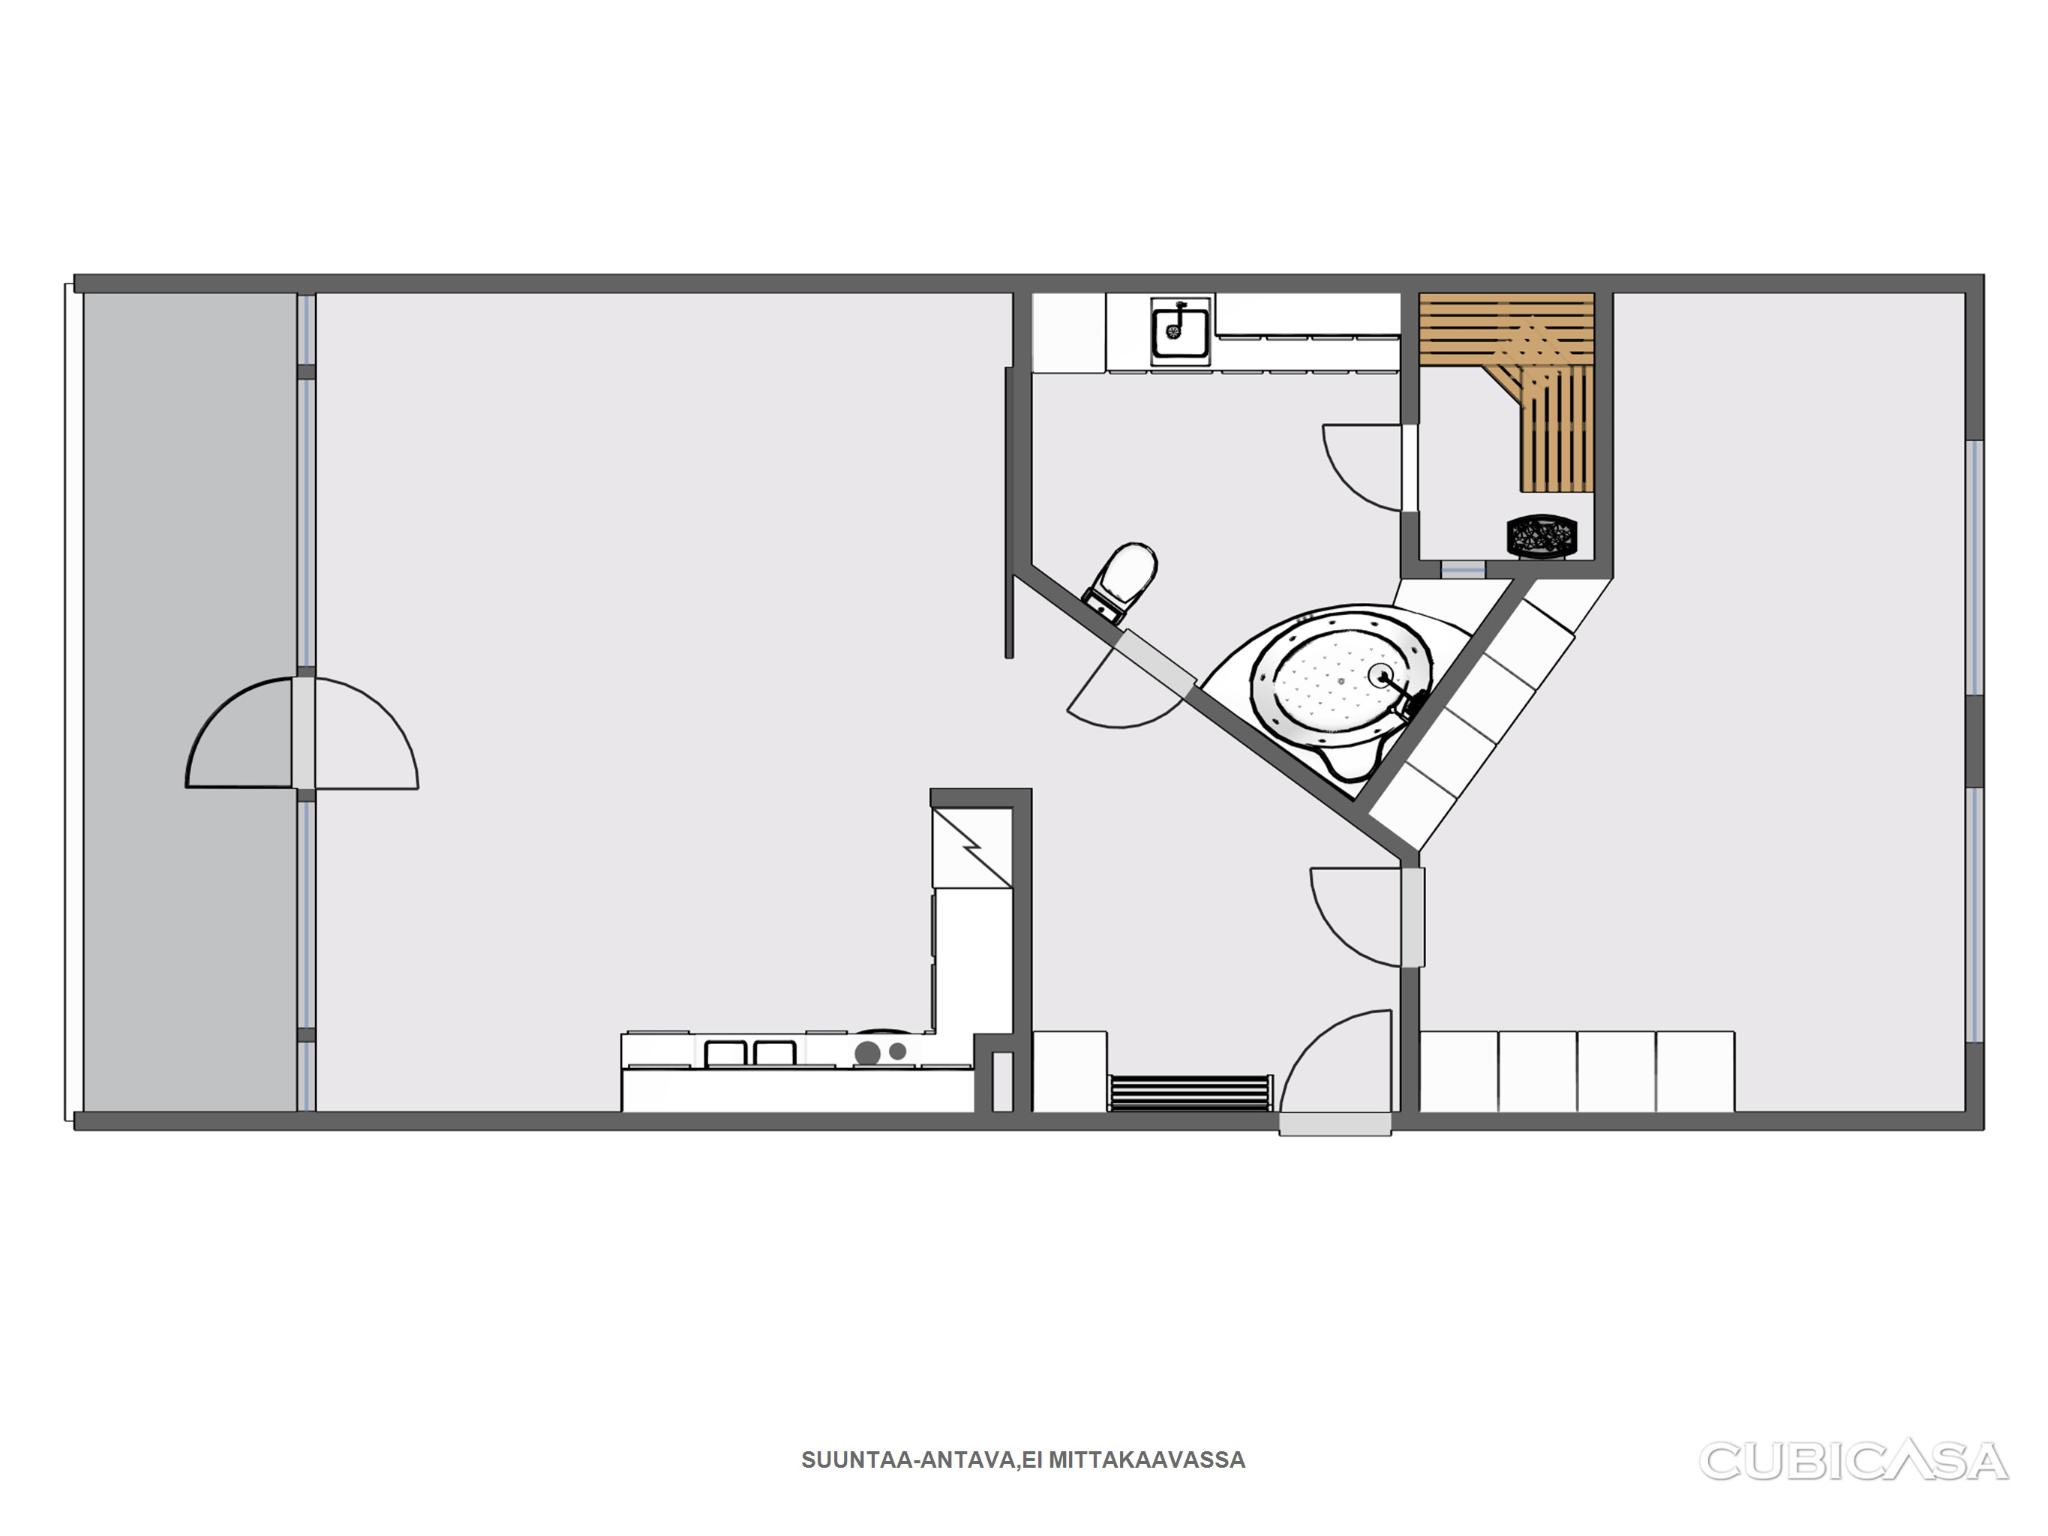bathroom: (1030, 289, 1492, 783)
door: (1268, 1005, 1405, 1147), (176, 671, 314, 799), (287, 676, 429, 799), (1063, 626, 1195, 742), (1301, 857, 1432, 970), (1314, 415, 1426, 516)
perimeter: (285, 274, 1988, 1133)
window: (1958, 768, 1995, 1065), (289, 363, 323, 678), (1956, 423, 1992, 716), (285, 787, 326, 1037), (287, 281, 323, 376), (292, 1031, 321, 1121), (1432, 552, 1496, 586)
